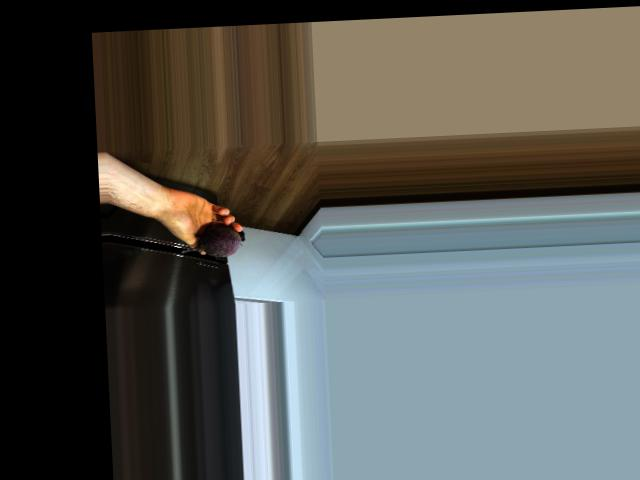beet: (181, 224, 246, 258)
